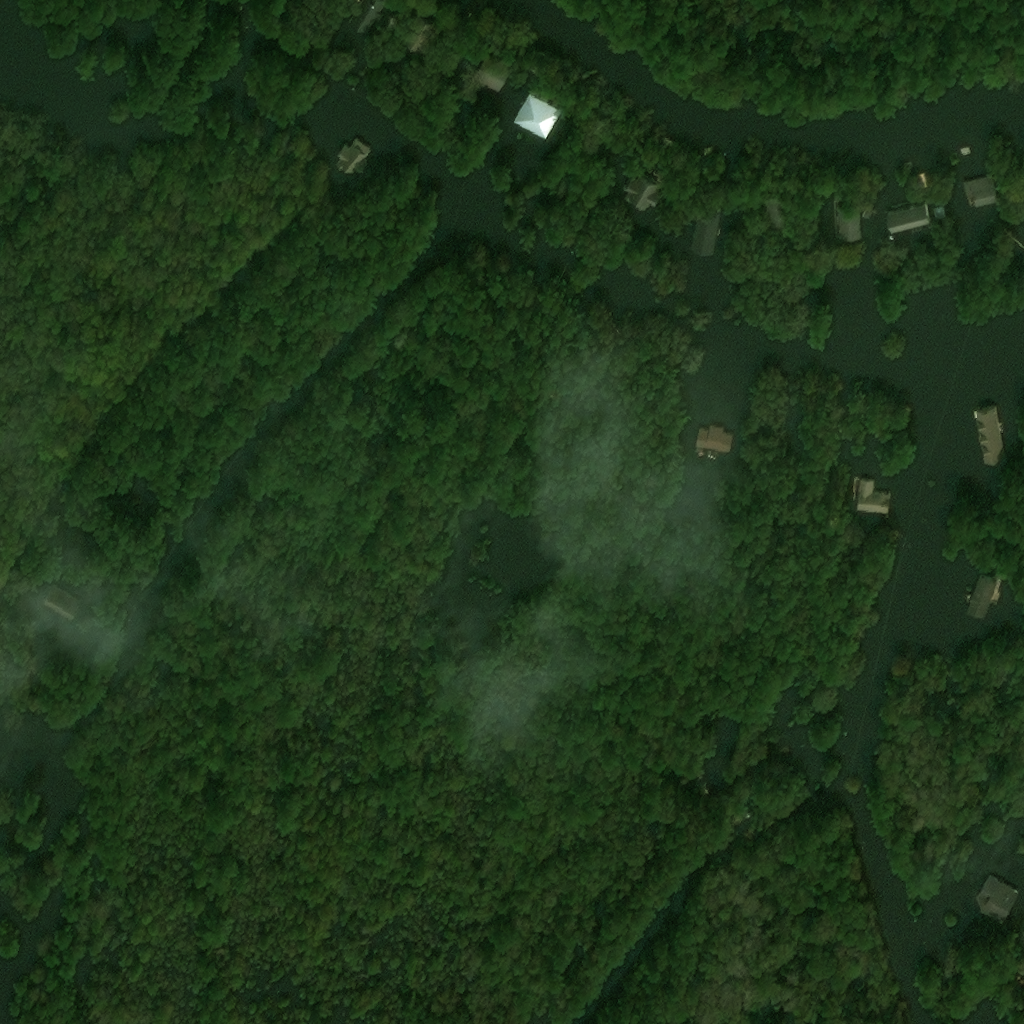destroyed: (977, 1006, 993, 1023), (711, 765, 736, 775)
major_damage: (507, 88, 559, 138), (974, 871, 1022, 924), (972, 403, 1009, 462), (330, 129, 371, 172), (965, 572, 1002, 618), (38, 580, 82, 618), (880, 197, 929, 229), (471, 51, 512, 89), (693, 419, 735, 455), (618, 170, 658, 207), (853, 477, 896, 510), (960, 170, 997, 206), (344, 0, 385, 31), (398, 8, 431, 45), (834, 202, 860, 237), (702, 201, 733, 222), (761, 194, 783, 223), (915, 170, 930, 187), (933, 201, 944, 217)
unclassified: (756, 721, 775, 747), (585, 115, 604, 133), (627, 151, 634, 164), (866, 195, 874, 206)
